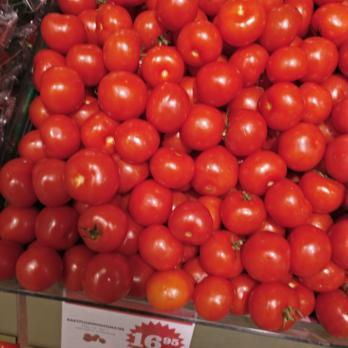Tomato: (56, 1, 348, 302), (4, 155, 79, 295)
